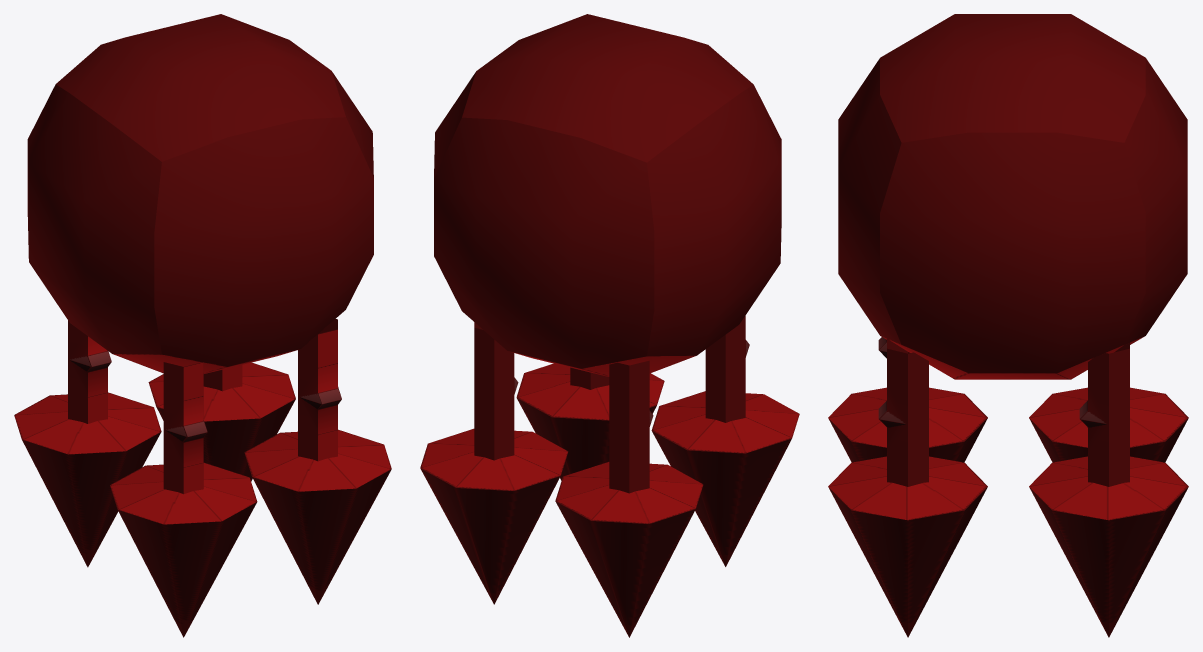
Rendered from SphenemyPH.FBX.
3 renders of one model, left to right at view 1: azimuth 30°, elevation 25°; view 2: azimuth 150°, elevation 25°; view 3: azimuth 270°, elevation 25°, orthographic. The views are drawn at different scales.
Visible parts, largest first — view 1: SphenemyPlaceholder; view 2: SphenemyPlaceholder; view 3: SphenemyPlaceholder.
Boxes of the visible parts, x1,y1,x2,y2 form: SphenemyPlaceholder: [14, 14, 391, 637]; SphenemyPlaceholder: [420, 14, 799, 637]; SphenemyPlaceholder: [828, 14, 1188, 637].
Bounding box in the file's own units: 65.88 × 118 × 68.11.
